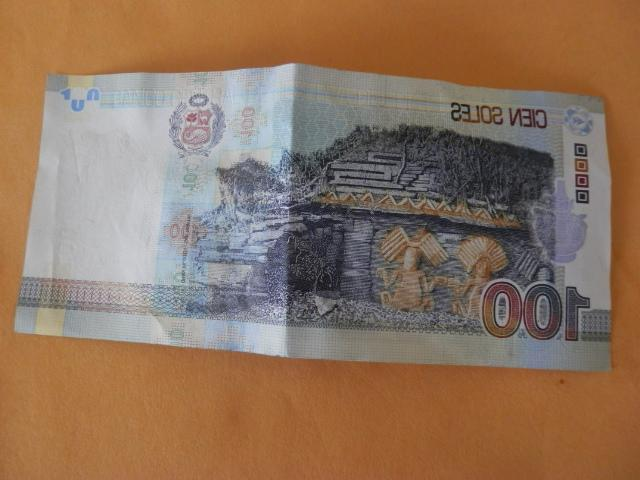B100: (15, 64, 613, 371)
